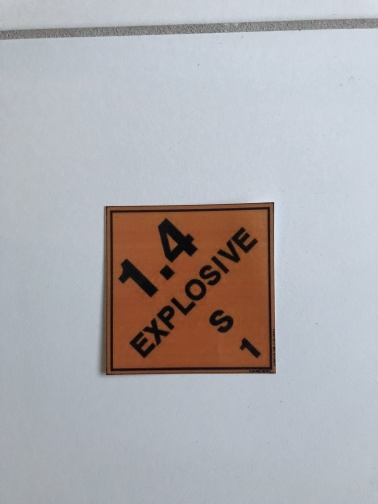Explosive: (105, 205, 274, 369)
